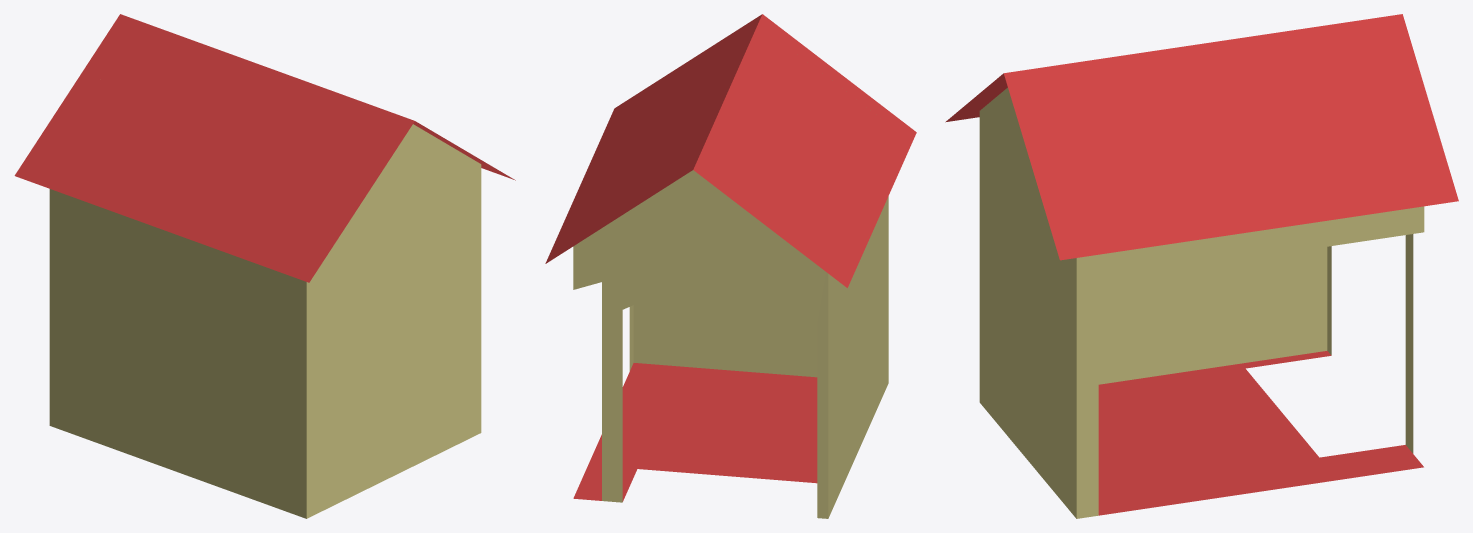
The picture shows the model from 3 angles, left to right: view 1: azimuth 30°, elevation 25°; view 2: azimuth 150°, elevation 25°; view 3: azimuth 270°, elevation 25°; orthographic projection. The views are drawn at different scales.
Bounding box in the file's own units: 12.93 × 14.22 × 11.99.
